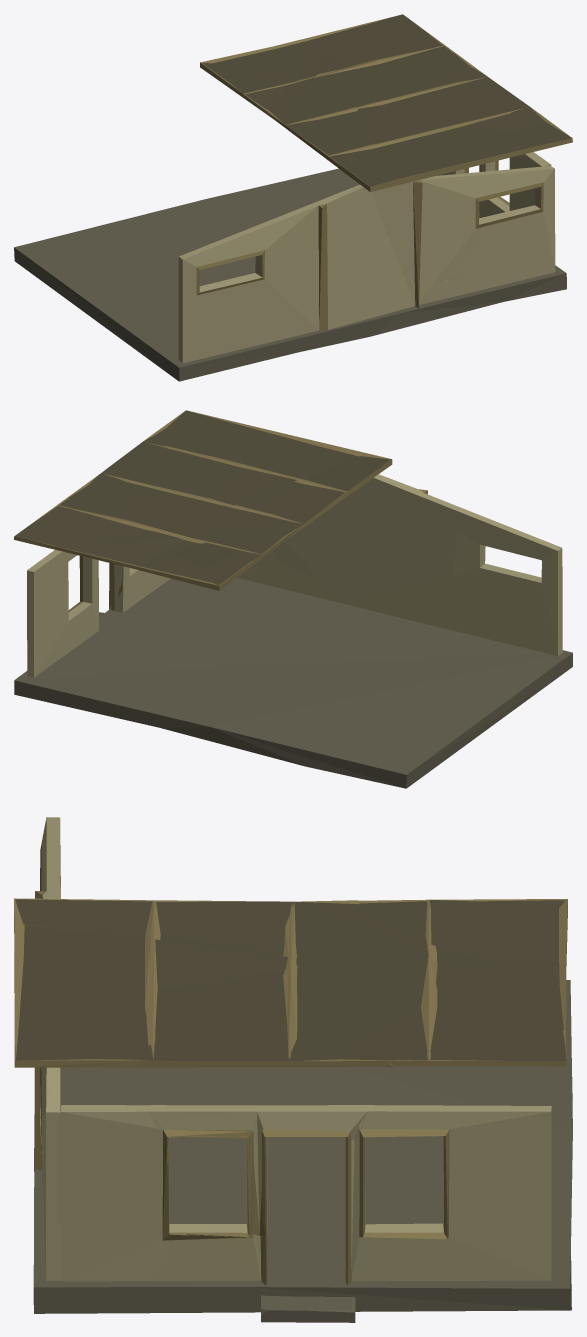
The model's file is Home2.1.fbx.
3 views of the same model, one above another, from view 1: azimuth 30°, elevation 25°; view 2: azimuth 150°, elevation 25°; view 3: azimuth 270°, elevation 25° (orthographic). The views are drawn at different scales.
Visible parts, largest first — view 1: Foundation, PanelWhitGlass, Roof, PanelWhitGlass_cell.002, PanelWhitGlass_cell.007, PanelWhitGlass_cell.005, Roof_cell.002, Roof_cell.003, Roof_cell.004, PanelWhitGlass_cell.003, PanelWhitDoor, PanelWhitGlass_cell.006 (+4 smaller); view 2: Foundation, Roof, PanelWhitGlass, PanelWhitGlass_cell.007, PanelWhitDoor, PanelWhitGlass_cell.006, Roof_cell.003, Roof_cell.002, PanelWhitGlass_cell.001, Roof_cell.004, Roof_cell.007, PanelWhitGlass_cell.002 (+4 smaller); view 3: Foundation, Roof, PanelWhitDoor, PanelWhitDoor_cell, PanelWhitDoor_cell.002, Roof_cell.003, Roof_cell.002, PanelWhitDoor_cell.005, PanelWhitGlass, Roof_cell.004, PanelWhitDoor_cell.006, Roof_cell.007 (+7 smaller).
Part boxes in pixels (bbox=[...]): Foundation: bbox=[14, 168, 566, 381]; PanelWhitGlass: bbox=[182, 168, 555, 363]; Roof: bbox=[200, 14, 571, 191]; PanelWhitGlass_cell.002: bbox=[349, 171, 509, 323]; PanelWhitGlass_cell.007: bbox=[276, 186, 362, 329]; PanelWhitGlass_cell.005: bbox=[467, 166, 555, 290]; Roof_cell.002: bbox=[357, 104, 572, 178]; Roof_cell.003: bbox=[265, 107, 395, 190]; Roof_cell.004: bbox=[202, 63, 297, 112]; PanelWhitGlass_cell.003: bbox=[354, 280, 479, 322]; PanelWhitDoor: bbox=[438, 155, 551, 217]; PanelWhitGlass_cell.006: bbox=[178, 246, 240, 362]; Foundation: bbox=[14, 578, 572, 788]; Roof: bbox=[14, 410, 392, 590]; PanelWhitGlass: bbox=[237, 476, 557, 635]; PanelWhitGlass_cell.007: bbox=[373, 479, 462, 629]; PanelWhitDoor: bbox=[27, 551, 170, 677]; PanelWhitGlass_cell.006: bbox=[457, 536, 562, 655]; Roof_cell.003: bbox=[230, 454, 390, 540]; Roof_cell.002: bbox=[153, 410, 364, 505]; PanelWhitGlass_cell.001: bbox=[449, 508, 533, 631]; Roof_cell.004: bbox=[169, 538, 283, 585]; Roof_cell.007: bbox=[70, 434, 219, 504]; PanelWhitGlass_cell.002: bbox=[273, 493, 385, 609]; Foundation: bbox=[33, 980, 572, 1313]; Roof: bbox=[14, 898, 567, 1067]; PanelWhitDoor: bbox=[60, 1105, 551, 1285]; PanelWhitDoor_cell: bbox=[345, 1105, 551, 1283]; PanelWhitDoor_cell.002: bbox=[60, 1105, 194, 1281]; Roof_cell.003: bbox=[15, 899, 359, 958]; Roof_cell.002: bbox=[14, 920, 296, 1067]; PanelWhitDoor_cell.005: bbox=[151, 1105, 367, 1237]; PanelWhitGlass: bbox=[35, 819, 60, 1280]; Roof_cell.004: bbox=[360, 900, 567, 960]; PanelWhitDoor_cell.006: bbox=[149, 1232, 267, 1285]; Roof_cell.007: bbox=[121, 966, 392, 1067].
Size of the model in its own units: 1080 by 401 by 798.
